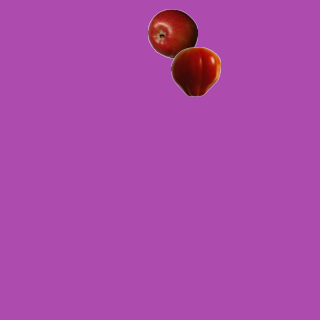Apple Braeburn: (147, 8, 197, 58)
Tomato 1: (170, 46, 220, 96)
